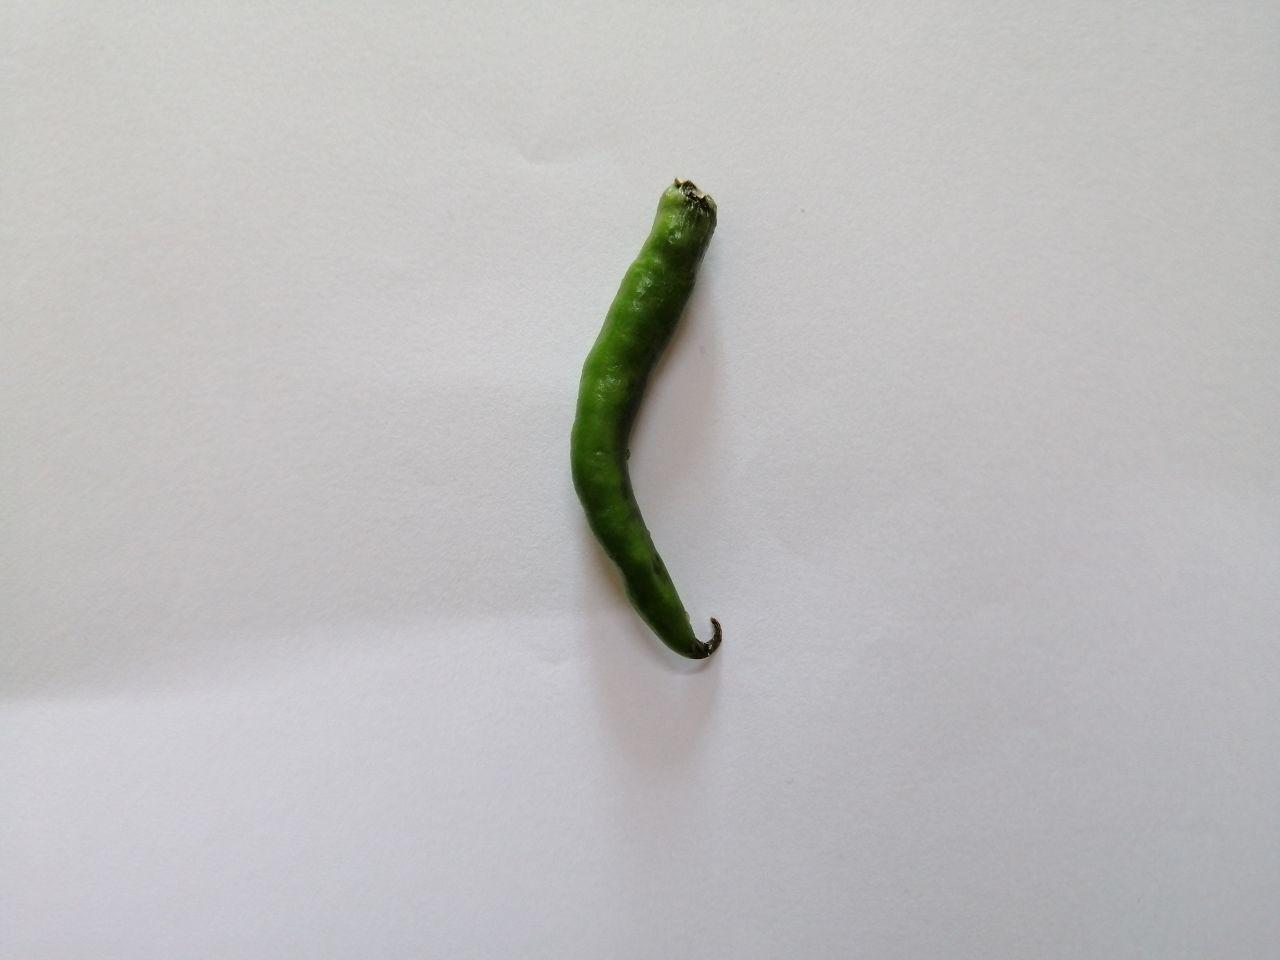lada hijau: (544, 136, 772, 690)
